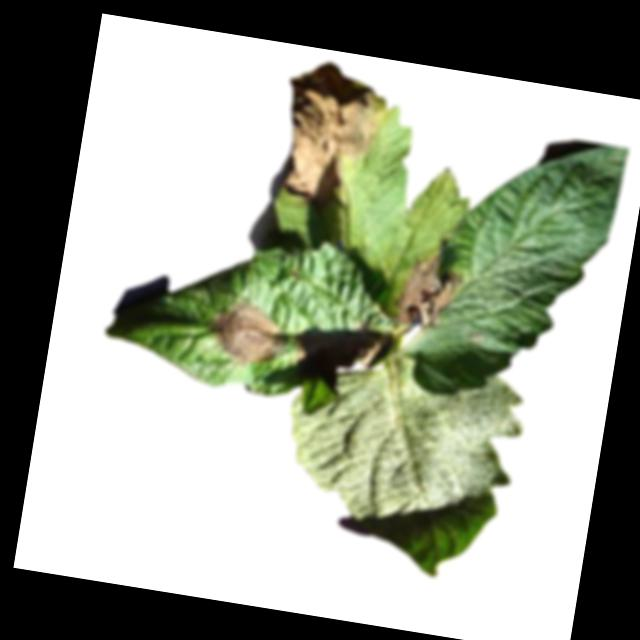Late_blight: (270, 55, 398, 212), (201, 293, 294, 371), (391, 248, 468, 335), (355, 338, 378, 371), (291, 339, 308, 360)
